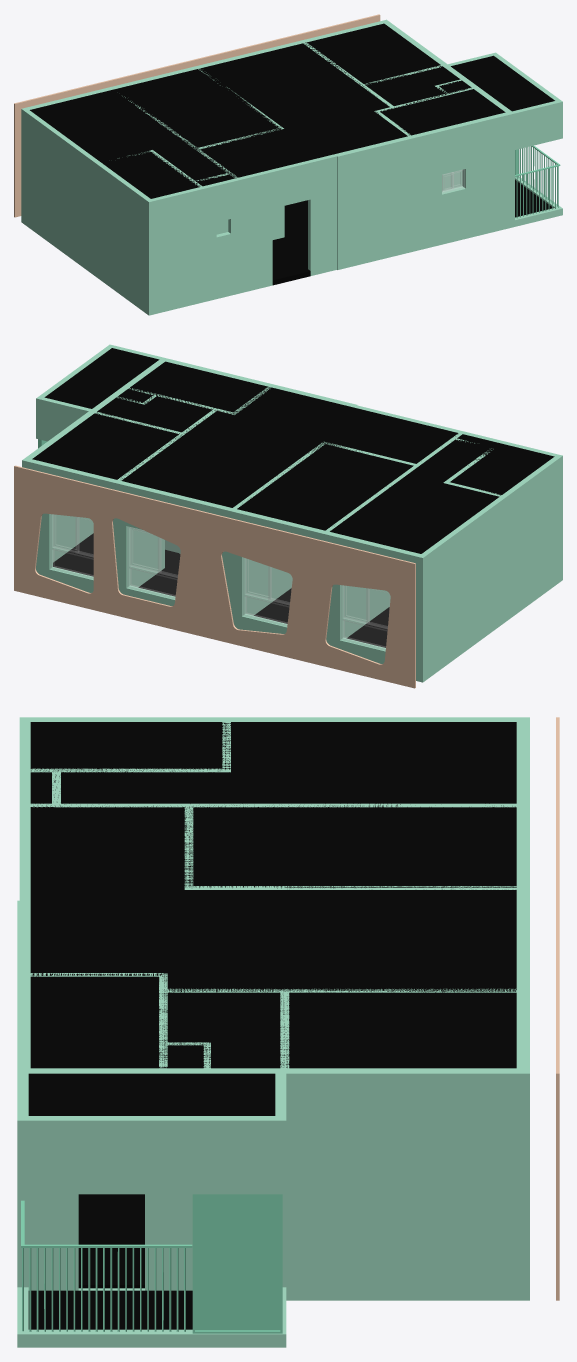
Rendered from threeBR-beenest.gltf.
3 renders of one model, top to bottom at view 1: azimuth 30°, elevation 25°; view 2: azimuth 150°, elevation 25°; view 3: azimuth 270°, elevation 25°, orthographic. The views are drawn at different scales.
Bounding box in the file's own units: 12.96 × 3.4 × 7.36.
